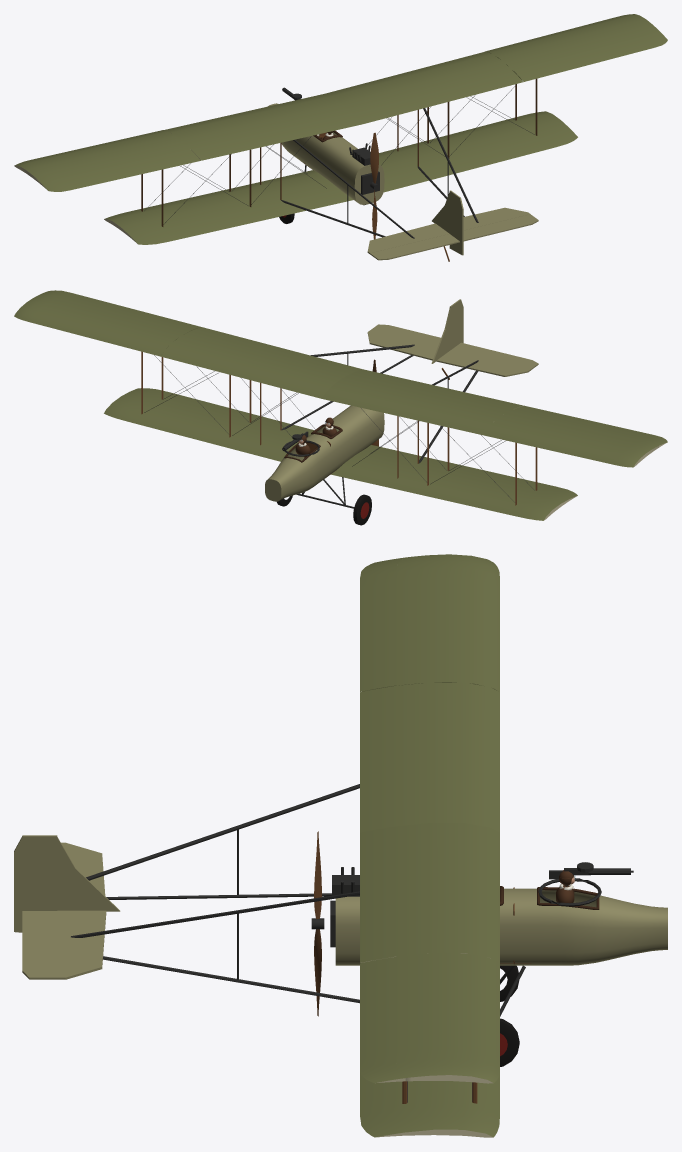
The model's file is farman_f40.glb.
3 views of the same model, one above another, from view 1: azimuth 30°, elevation 25°; view 2: azimuth 150°, elevation 25°; view 3: azimuth 270°, elevation 25° (orthographic). The views are drawn at different scales.
Visible parts, largest first — view 1: Wing_Upper_R, Wing_Upper_L, Wing_Lower_L, Wing_Lower_R, Fuselage, Struts, Aileron_R, Aileron_L, Elevator, Stabilizer_L, Wires, Rudder (+3 smaller); view 2: Wing_Upper_R, Wing_Upper_L, Wing_Lower_L, Wing_Lower_R, Fuselage, Struts, Elevator, Stabilizer_L, Aileron_R, Aileron_L, Stabilizer_R, Wires (+3 smaller); view 3: Wing_Upper_L, Wing_Upper_R, Fuselage, Wing_Lower_R, Struts, Aileron_L, Aileron_R, Rudder, Stabilizer_R, Elevator, Fin, PropBlades (+3 smaller).
Boxes of the visible parts, x1=… form: Wing_Upper_R: x1=325, y1=14, x2=658, y2=124; Wing_Upper_L: x1=14, y1=94, x2=361, y2=183; Wing_Lower_L: x1=104, y1=170, x2=353, y2=244; Wing_Lower_R: x1=379, y1=111, x2=577, y2=192; Fuselage: x1=268, y1=103, x2=384, y2=204; Struts: x1=141, y1=78, x2=537, y2=238; Aileron_R: x1=513, y1=31, x2=667, y2=81; Aileron_L: x1=39, y1=149, x2=200, y2=191; Elevator: x1=370, y1=214, x2=538, y2=260; Stabilizer_L: x1=367, y1=223, x2=449, y2=253; Wires: x1=144, y1=84, x2=534, y2=224; Rudder: x1=449, y1=190, x2=463, y2=255; Wing_Upper_R: x1=14, y1=294, x2=361, y2=398; Wing_Upper_L: x1=322, y1=369, x2=658, y2=467; Wing_Lower_L: x1=331, y1=445, x2=577, y2=520; Wing_Lower_R: x1=104, y1=388, x2=313, y2=461; Fuselage: x1=265, y1=405, x2=384, y2=501; Struts: x1=141, y1=344, x2=537, y2=505; Elevator: x1=370, y1=324, x2=538, y2=370; Stabilizer_L: x1=436, y1=350, x2=530, y2=376; Aileron_R: x1=40, y1=290, x2=200, y2=330; Aileron_L: x1=514, y1=405, x2=667, y2=447; Stabilizer_R: x1=367, y1=330, x2=437, y2=360; Wires: x1=144, y1=355, x2=534, y2=502; Wing_Upper_L: x1=360, y1=554, x2=499, y2=832; Wing_Upper_R: x1=360, y1=823, x2=499, y2=1083; Fuselage: x1=335, y1=888, x2=667, y2=965; Wing_Lower_R: x1=360, y1=1070, x2=499, y2=1137; Struts: x1=71, y1=784, x2=477, y2=1103; Aileron_L: x1=360, y1=557, x2=404, y2=691; Aileron_R: x1=360, y1=957, x2=405, y2=1083; Rudder: x1=14, y1=835, x2=57, y2=932; Stabilizer_R: x1=57, y1=910, x2=106, y2=979; Elevator: x1=22, y1=911, x2=57, y2=979; Fin: x1=57, y1=837, x2=120, y2=911; PropBlades: x1=311, y1=831, x2=324, y2=1016.
Bounding box in the file's own units: 17.6 × 3.49 × 9.34.
